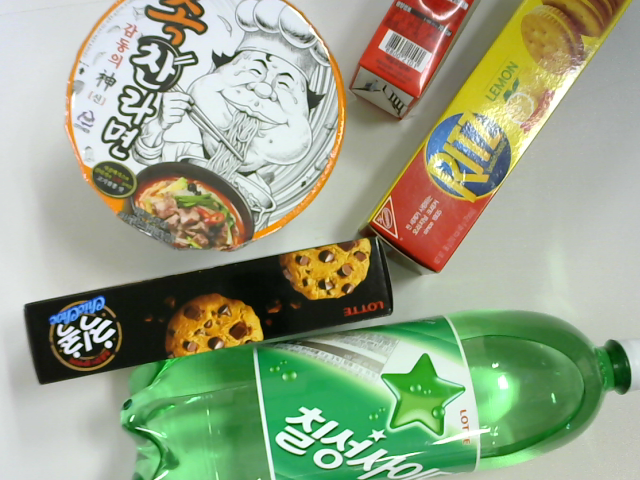Chicchok_Original_2400: (18, 233, 406, 401)
Chilseong_Cider_1.5L: (113, 303, 640, 476)
Hejangchan: (55, 1, 349, 264)
Picnic_Apple: (343, 1, 481, 121)
Ritz_Remon_96g: (355, 1, 631, 279)
